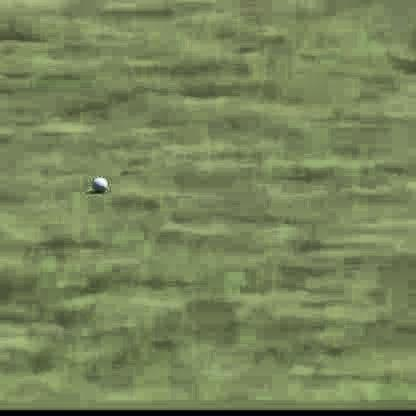golfball: (89, 175, 108, 193)
